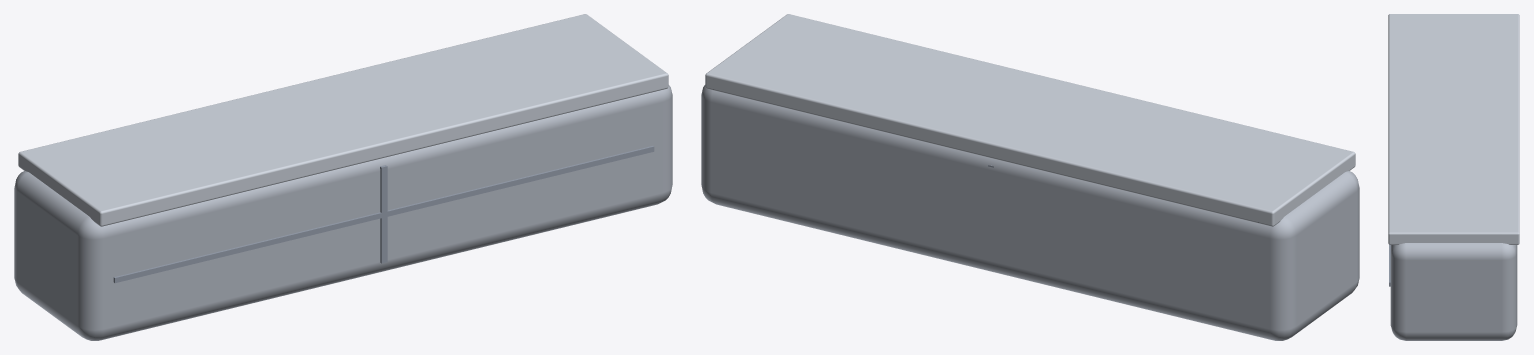
The model's file is tvstand.glb.
3 views of the same model, side by side, from view 1: azimuth 30°, elevation 25°; view 2: azimuth 150°, elevation 25°; view 3: azimuth 270°, elevation 25° (orthographic). The views are drawn at different scales.
Visible parts, largest first — view 1: tvstand; view 2: tvstand; view 3: tvstand.
Boxes of the visible parts, left/top/right/bottom form: tvstand: left=14, top=14, right=672, bottom=340; tvstand: left=701, top=14, right=1359, bottom=340; tvstand: left=1388, top=14, right=1519, bottom=340.
Bounding box in the file's own units: 1.8 × 0.4161 × 0.4368.
